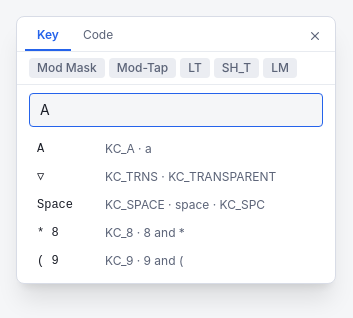
PopoverTabKey — search › filters keycodes by search query
The image size is (353, 318).
Replace the text in the field with test id "popover-search-input" with "enter" at (176, 110), box [29,93,323,127]
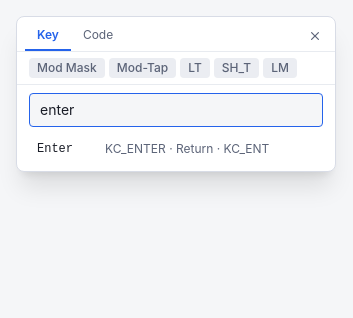
expect the button with test id "popover-result-KC_ENTER" is shown: met, box [29,135,323,163]
expect the button with test id "popover-result-KC_A" is gone: met
